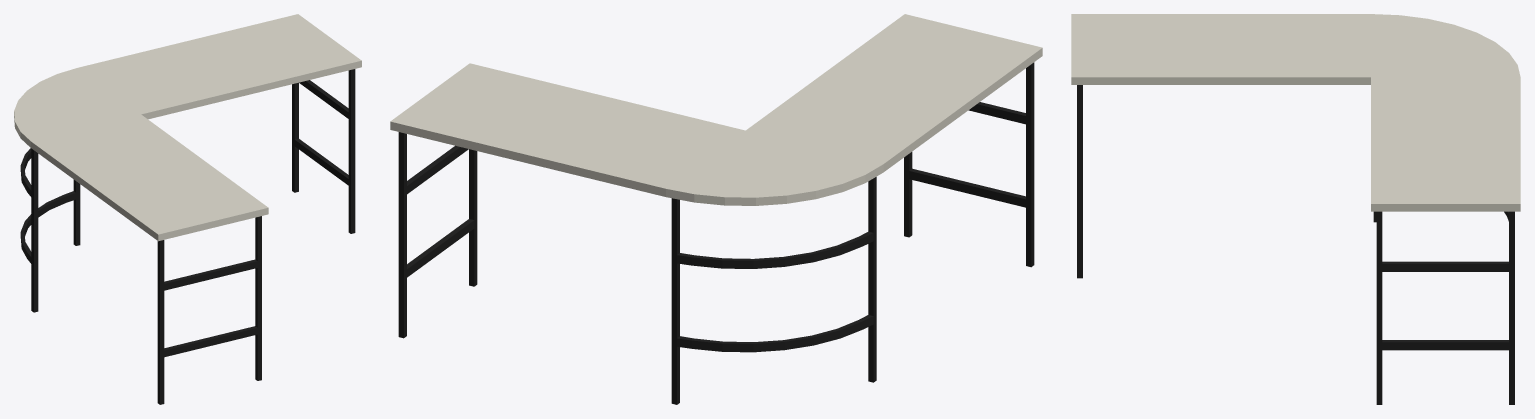
Rendered from オフィステーブル_エリート.fbx.
3 views of the same model, side by side, from view 1: azimuth 30°, elevation 25°; view 2: azimuth 150°, elevation 25°; view 3: azimuth 270°, elevation 25° (orthographic). The views are drawn at different scales.
Visible parts, largest first — view 1: オフィステーブル_エリート_UV; view 2: オフィステーブル_エリート_UV; view 3: オフィステーブル_エリート_UV.
Boxes of the visible parts, x1,y1,x2,y2 form: オフィステーブル_エリート_UV: (14, 14, 361, 404); オフィステーブル_エリート_UV: (390, 14, 1042, 404); オフィステーブル_エリート_UV: (1071, 14, 1520, 404).
Size of the model in its own units: 156 by 156 by 78.
